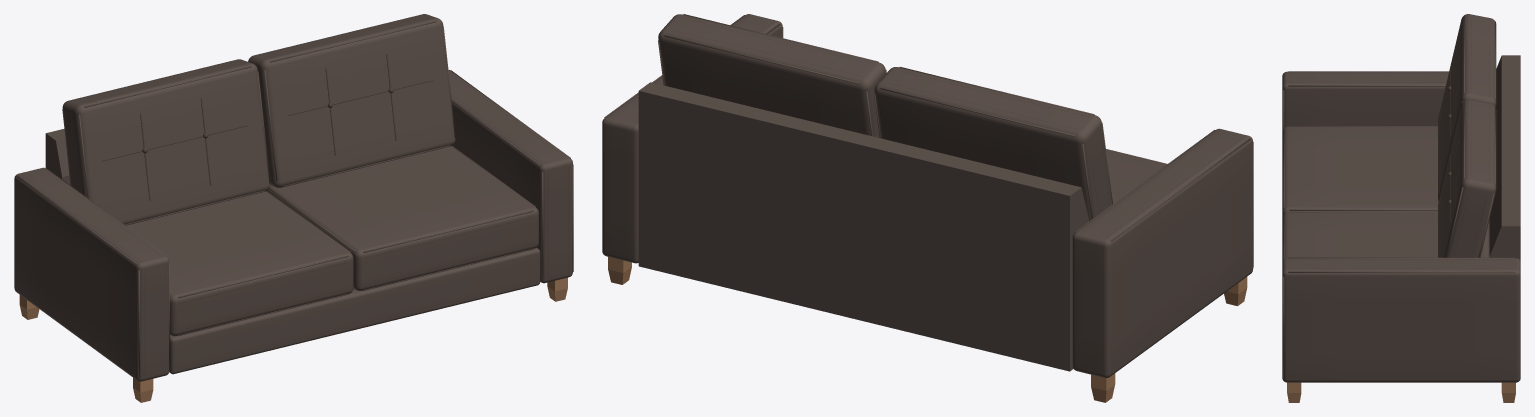
Rendered from benza_200x100.glb.
3 renders of one model, left to right at view 1: azimuth 30°, elevation 25°; view 2: azimuth 150°, elevation 25°; view 3: azimuth 270°, elevation 25°, orthographic. The views are drawn at different scales.
Parts seen in each view (by area): view 1: p1, p2, p0; view 2: p1, p0, p2; view 3: p1, p2, p0.
Boxes of the visible parts, left/top/right/bottom form: p1: left=14, top=14, right=573, bottom=381; p2: left=22, top=15, right=569, bottom=376; p0: left=19, top=277, right=567, bottom=402; p1: left=602, top=14, right=1253, bottom=378; p0: left=608, top=257, right=1247, bottom=402; p2: left=611, top=16, right=1243, bottom=237; p1: left=1282, top=14, right=1520, bottom=382; p2: left=1289, top=17, right=1513, bottom=268; p0: left=1287, top=382, right=1515, bottom=402.
Bounding box in the file's own units: 2 × 0.9642 × 1.
3 materials, 2 textured.
